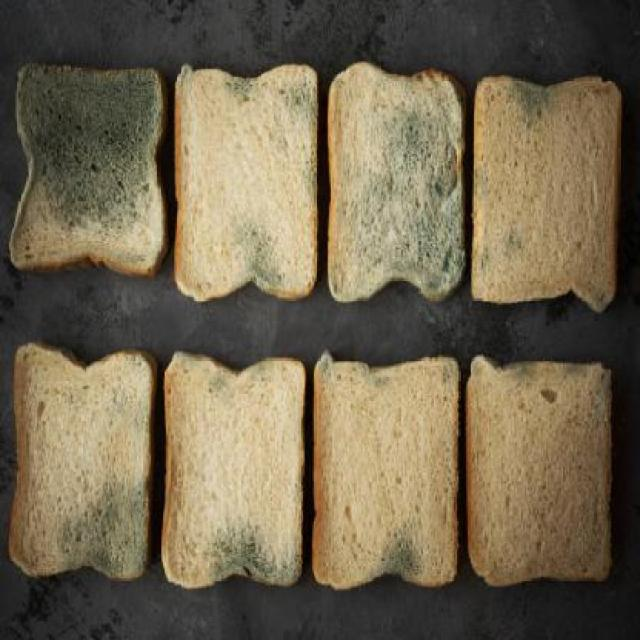mold_bread: (13, 58, 157, 225), (363, 78, 468, 301), (55, 474, 154, 585), (201, 514, 287, 593), (367, 515, 430, 586), (231, 222, 283, 292), (502, 70, 564, 128), (487, 354, 544, 394), (281, 81, 318, 123), (297, 140, 323, 197), (223, 71, 259, 103), (314, 350, 342, 391), (244, 357, 278, 390), (366, 366, 398, 400), (208, 364, 236, 398), (563, 352, 591, 380), (500, 225, 529, 250), (477, 238, 495, 277)
